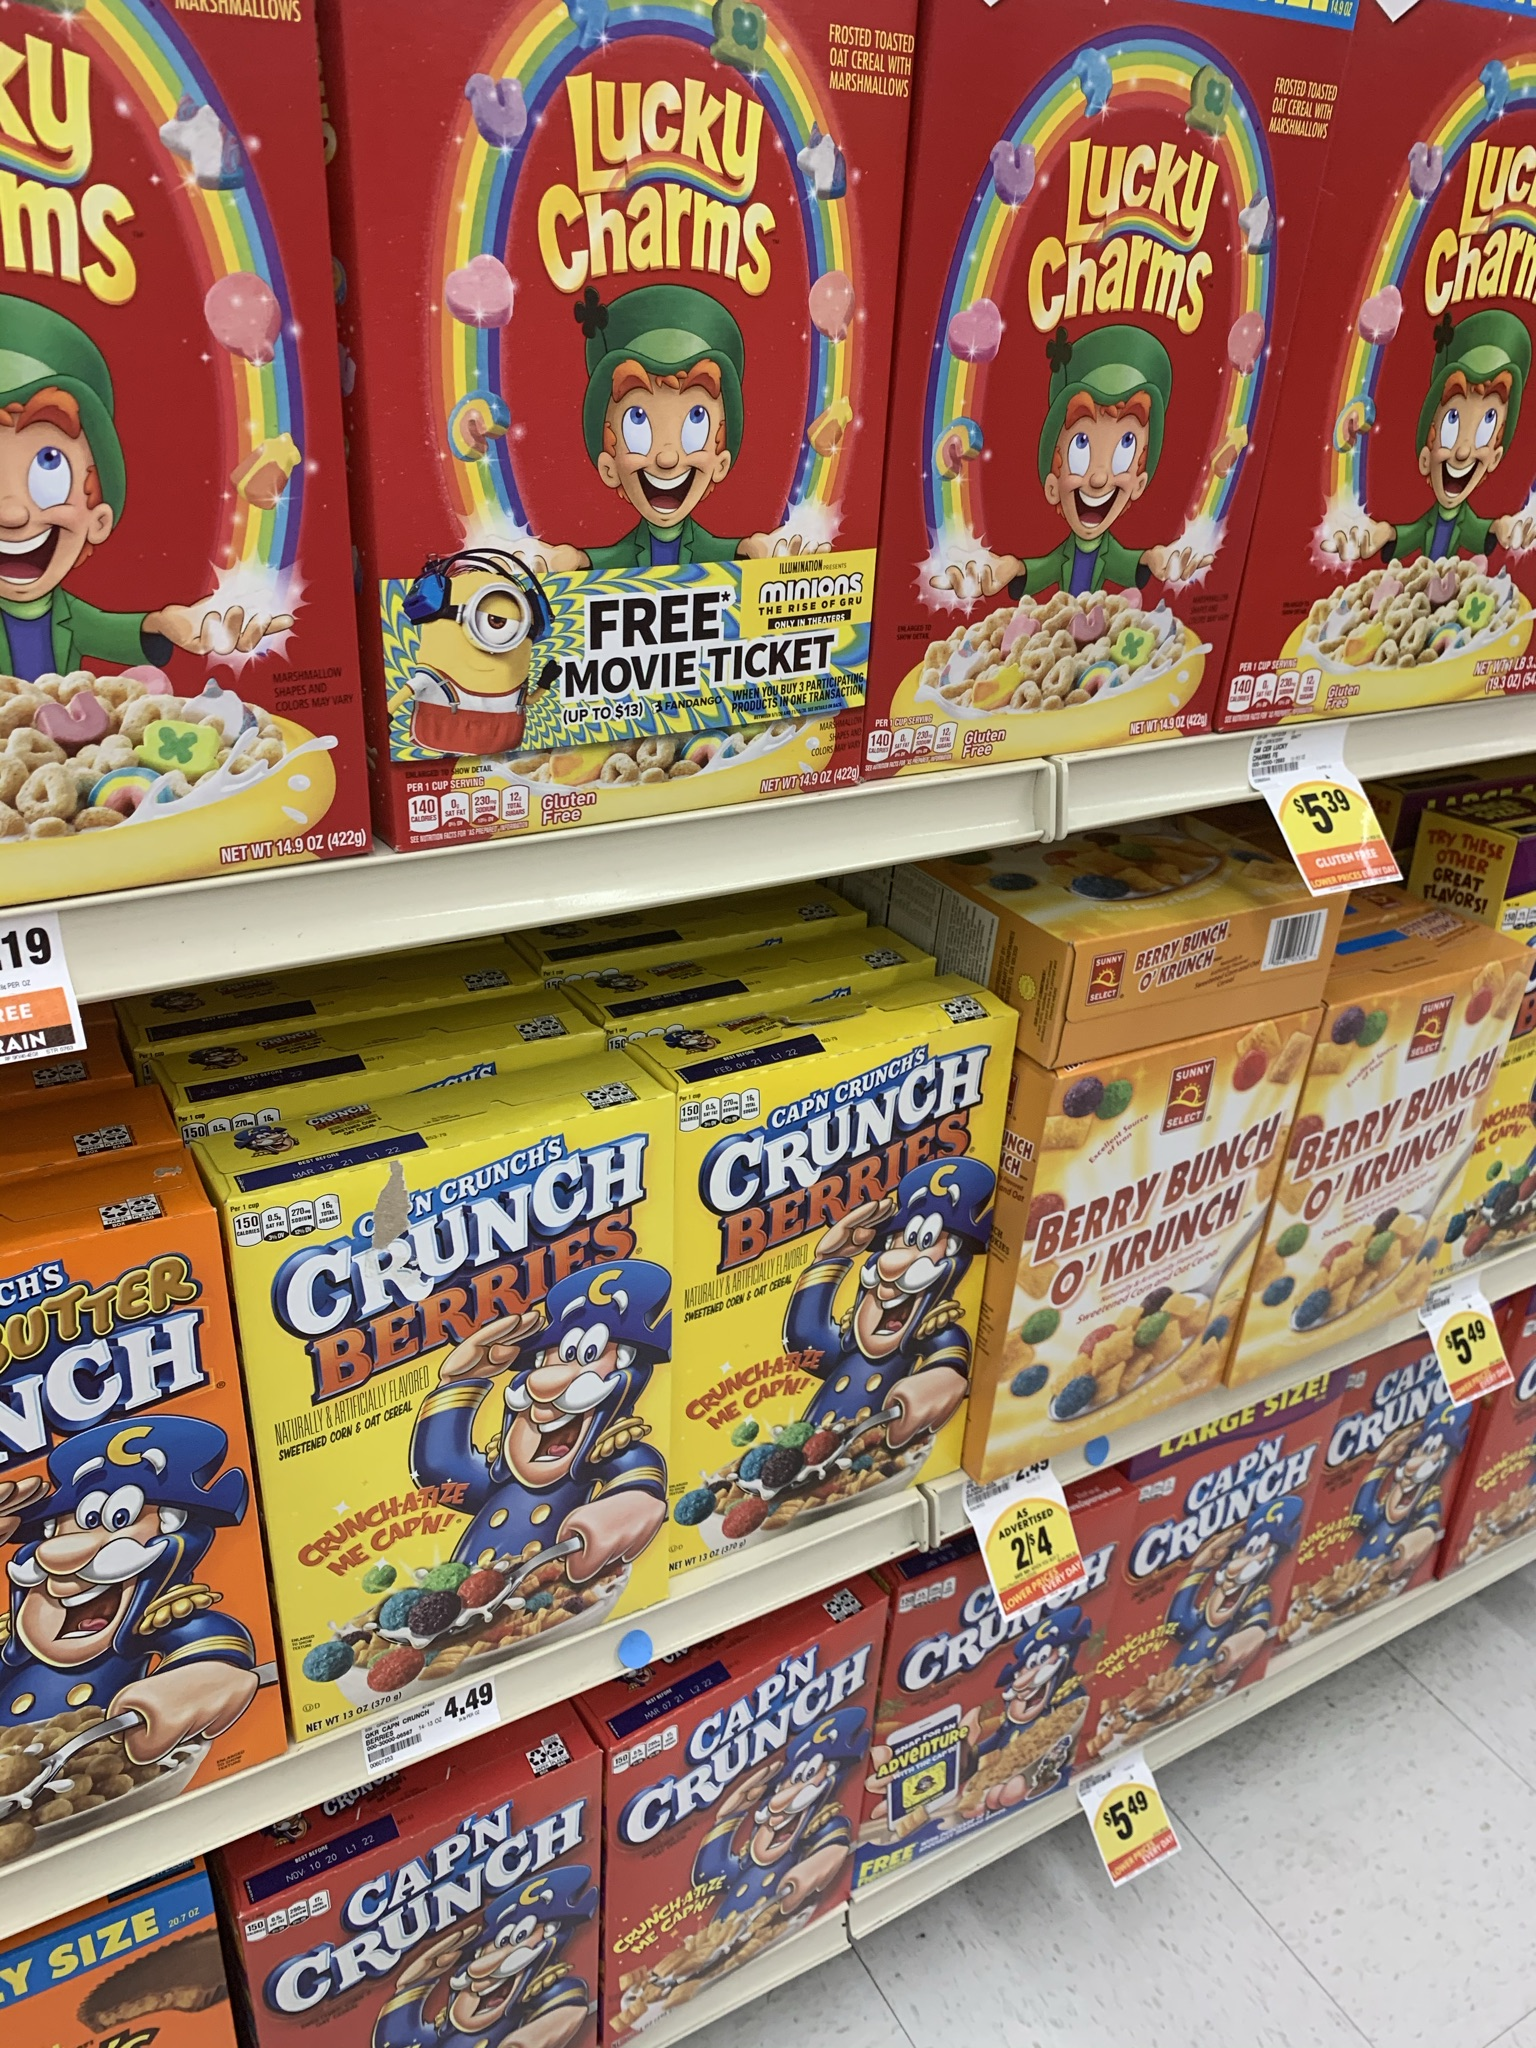box: (373, 19, 850, 784), (2, 10, 311, 868), (913, 26, 1220, 732), (300, 1126, 655, 1614), (1341, 23, 1536, 693), (682, 1039, 979, 1461), (631, 1684, 863, 1930), (1057, 1089, 1234, 1384), (1329, 1021, 1446, 1288), (1137, 1471, 1276, 1687)
